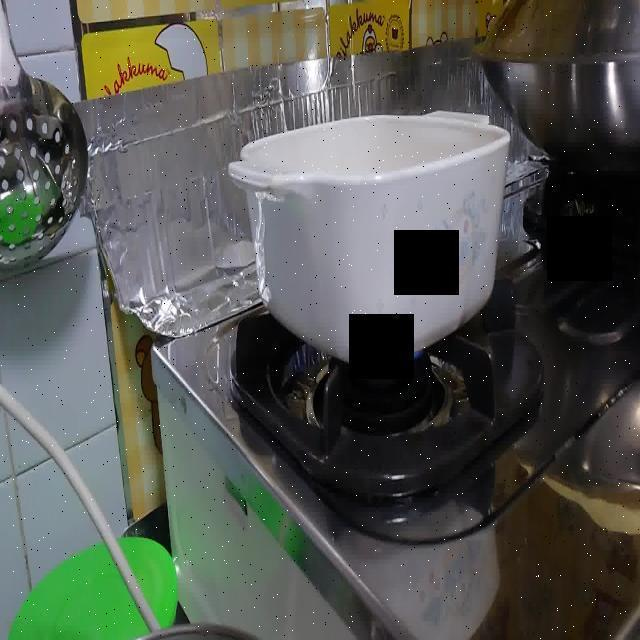Pan: (235, 114, 519, 364)
